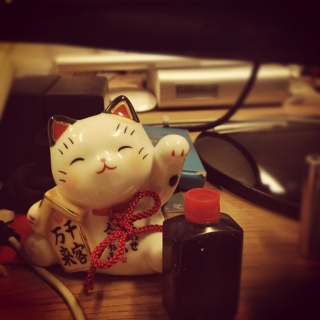Cat: (23, 91, 191, 275)
